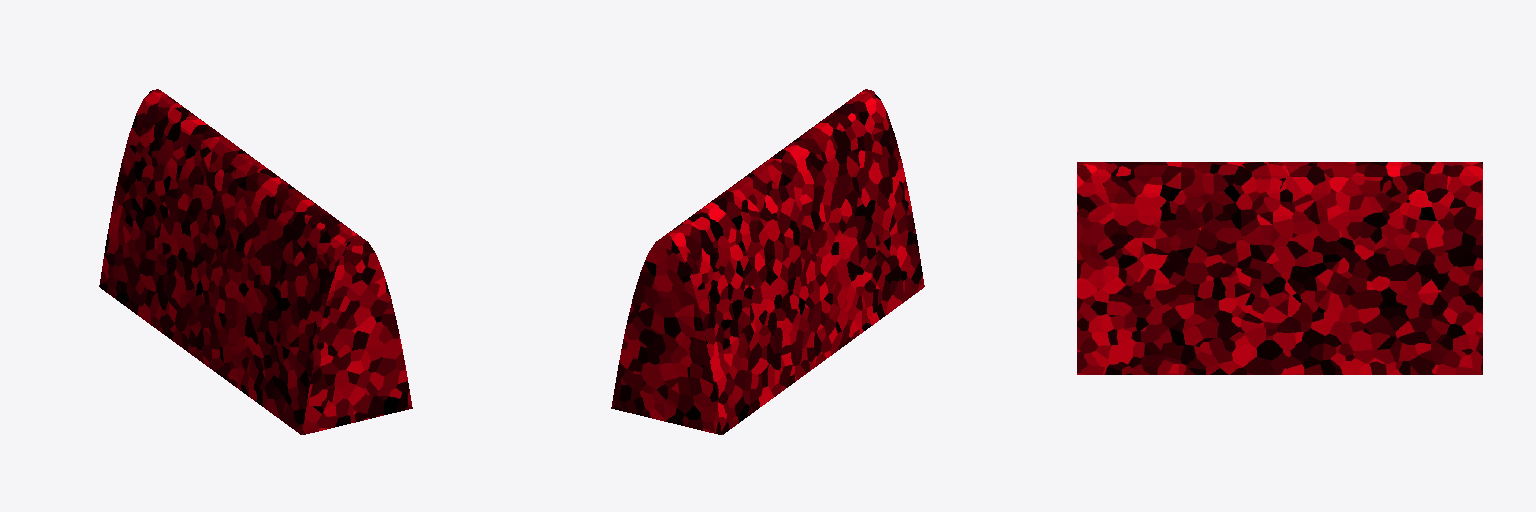
3 views of the same model, side by side, from view 1: azimuth 30°, elevation 25°; view 2: azimuth 150°, elevation 25°; view 3: azimuth 270°, elevation 25° (orthographic).
Visible parts, largest first — view 1: object_50.001_Z_Function.003; view 2: object_50.001_Z_Function.003; view 3: object_50.001_Z_Function.003.
Boxes of the visible parts, box(x1,y1,x2,y2) form: object_50.001_Z_Function.003: box(99, 89, 412, 434); object_50.001_Z_Function.003: box(611, 89, 924, 434); object_50.001_Z_Function.003: box(1077, 162, 1482, 374).
Bounding box in the file's own units: 31.6 × 50 × 100.
1 materials, 1 textured.